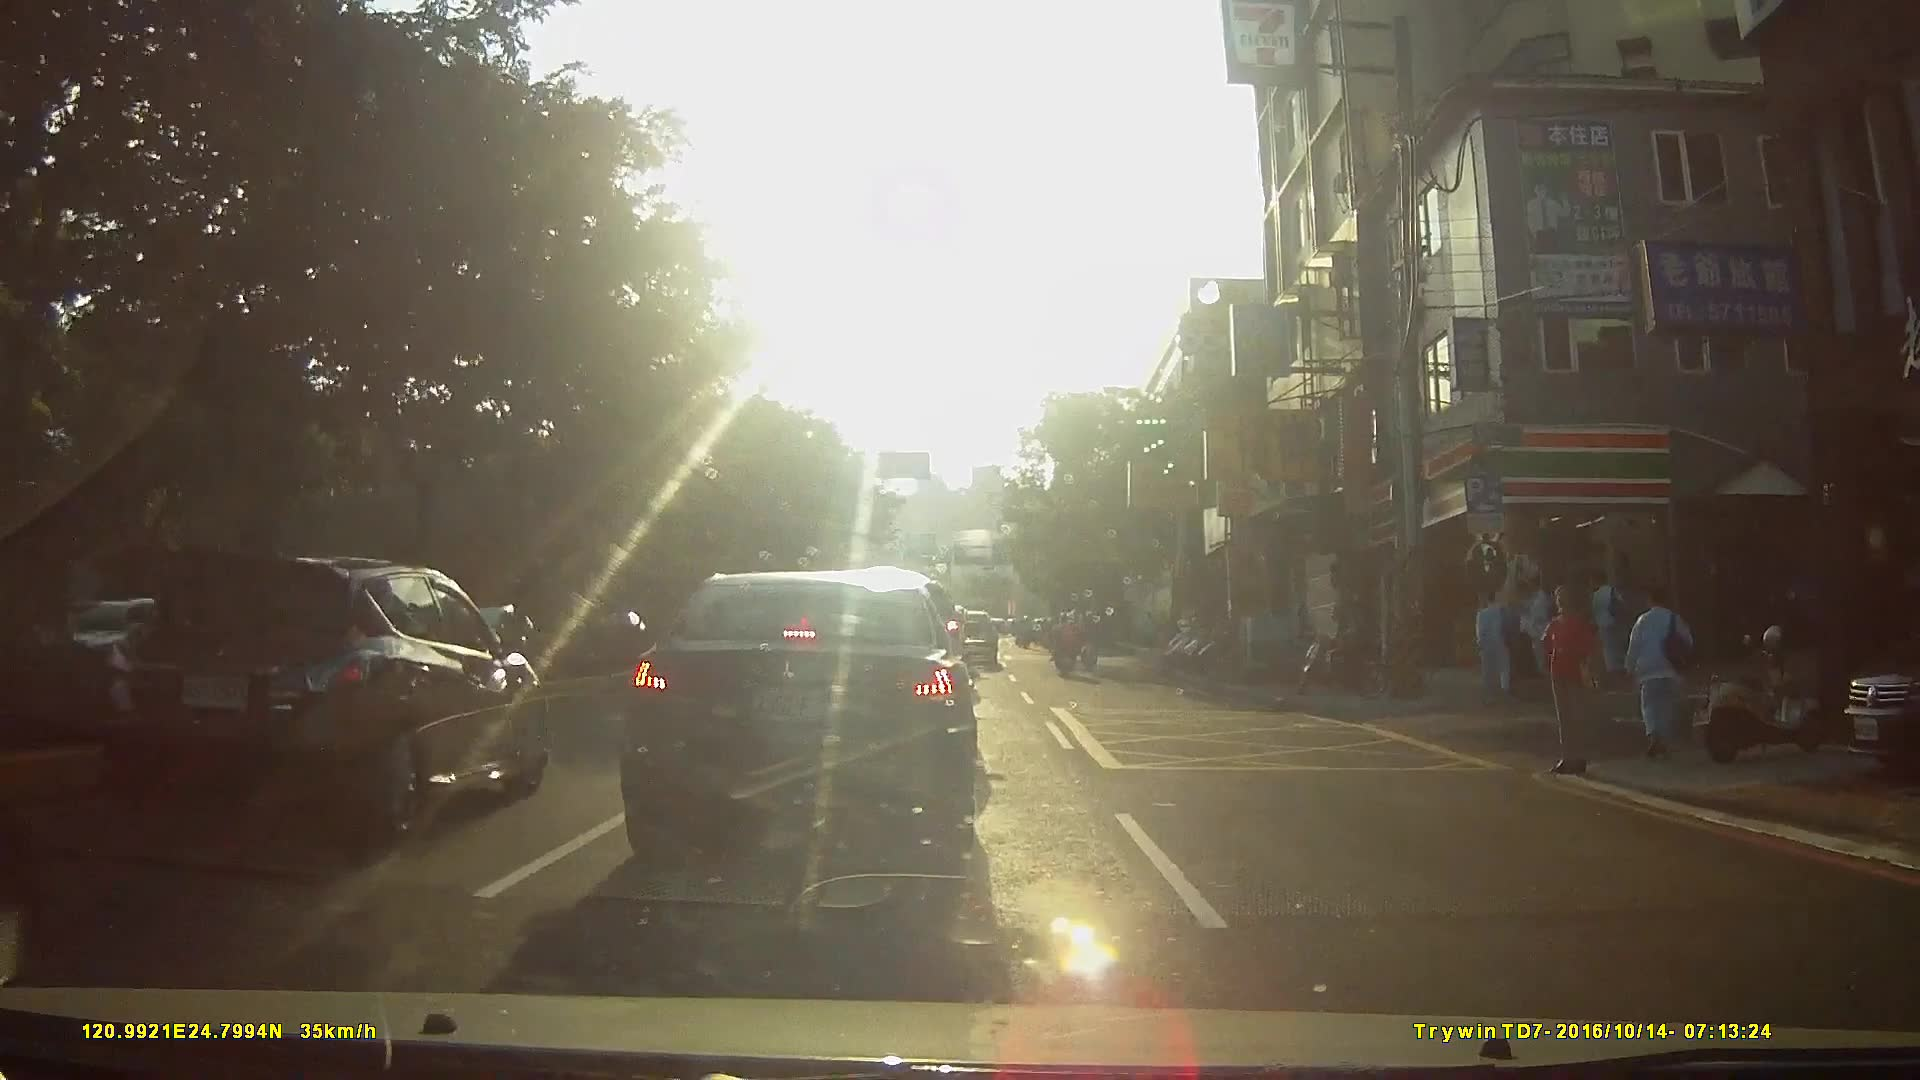pedestrian: (1618, 584, 1688, 755), (1538, 591, 1601, 776), (1473, 586, 1524, 705), (1519, 565, 1560, 691)
rider: (1052, 611, 1088, 682), (1064, 607, 1089, 660)
vehicle: (88, 547, 551, 847), (617, 569, 999, 858), (6, 601, 187, 684), (1832, 628, 1920, 792)
